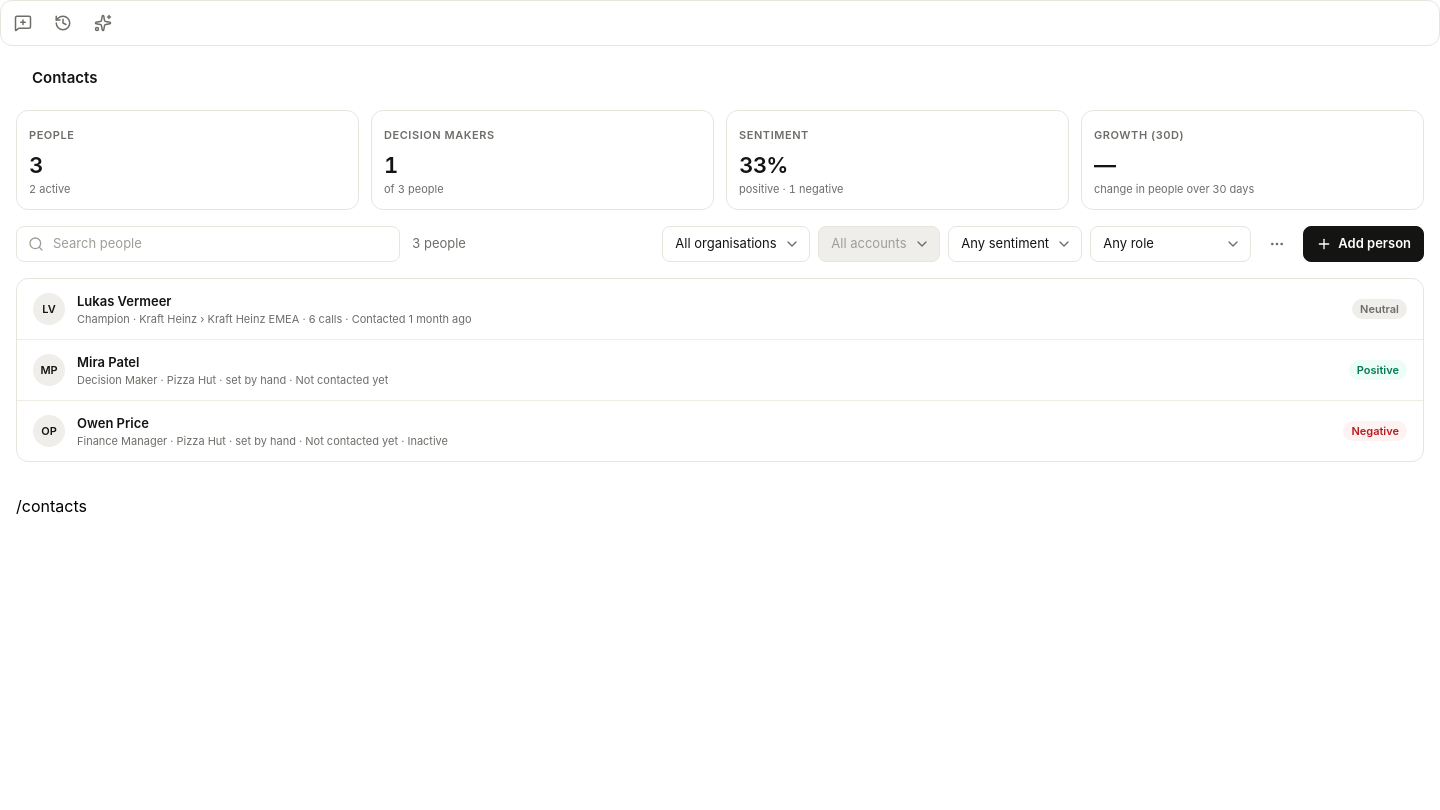
Test case: Ask Revenact on Contacts › opens as a sheet below sm, from the pill
Check: the link "Lukas Vermeer" is shown, box [77,293,172,309]
Check: the element "Ask Revenact" is not shown
Click the button named "Show Copilot" at (103, 23), box [85,5,121,41]
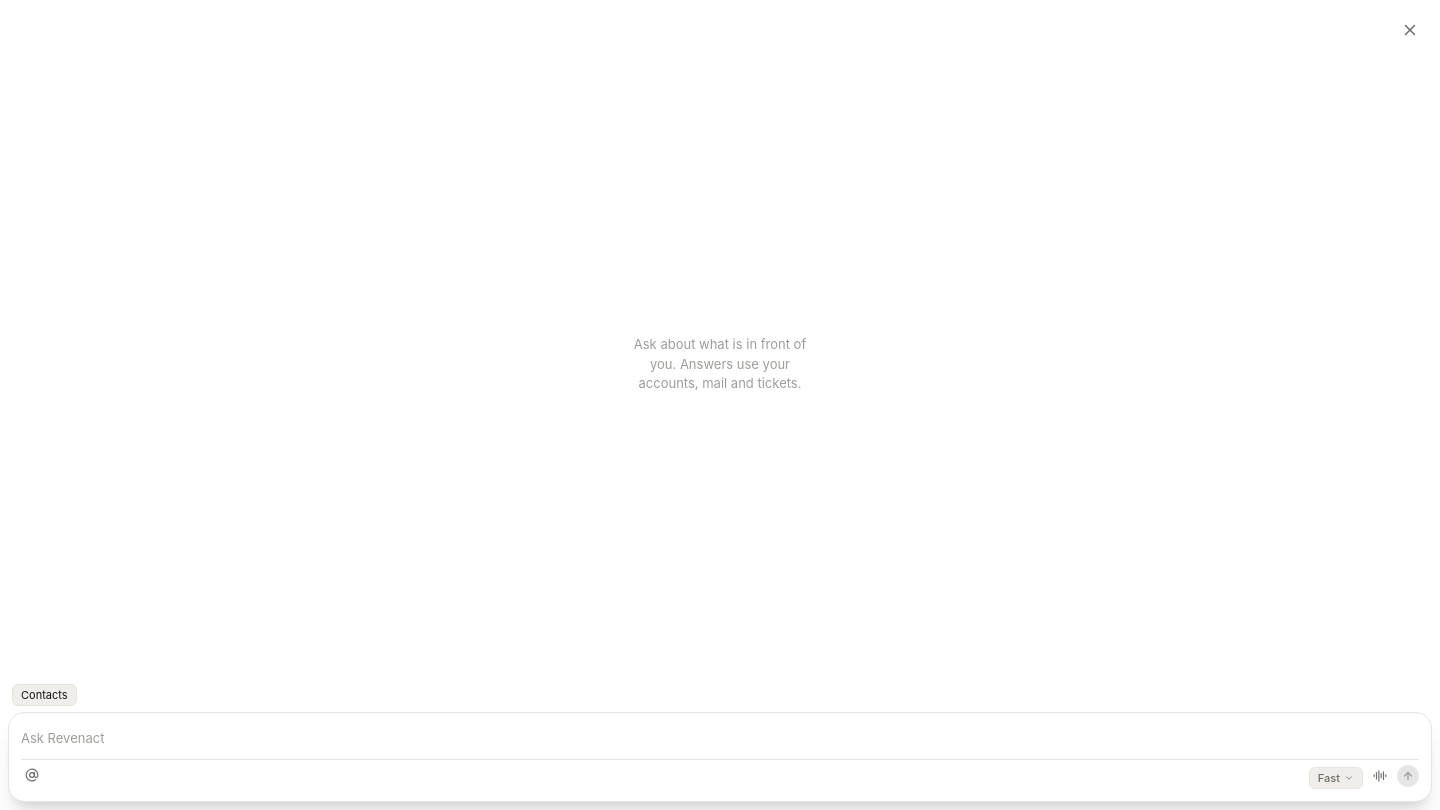
Check: the dialog named "Ask Revenact" is shown
